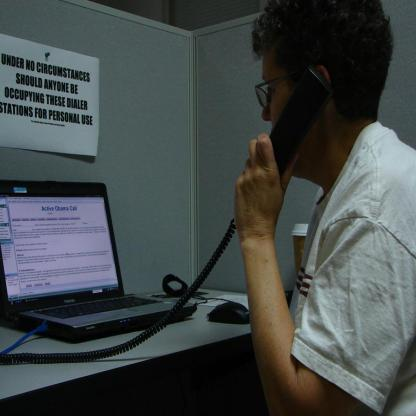board: (0, 176, 197, 342)
